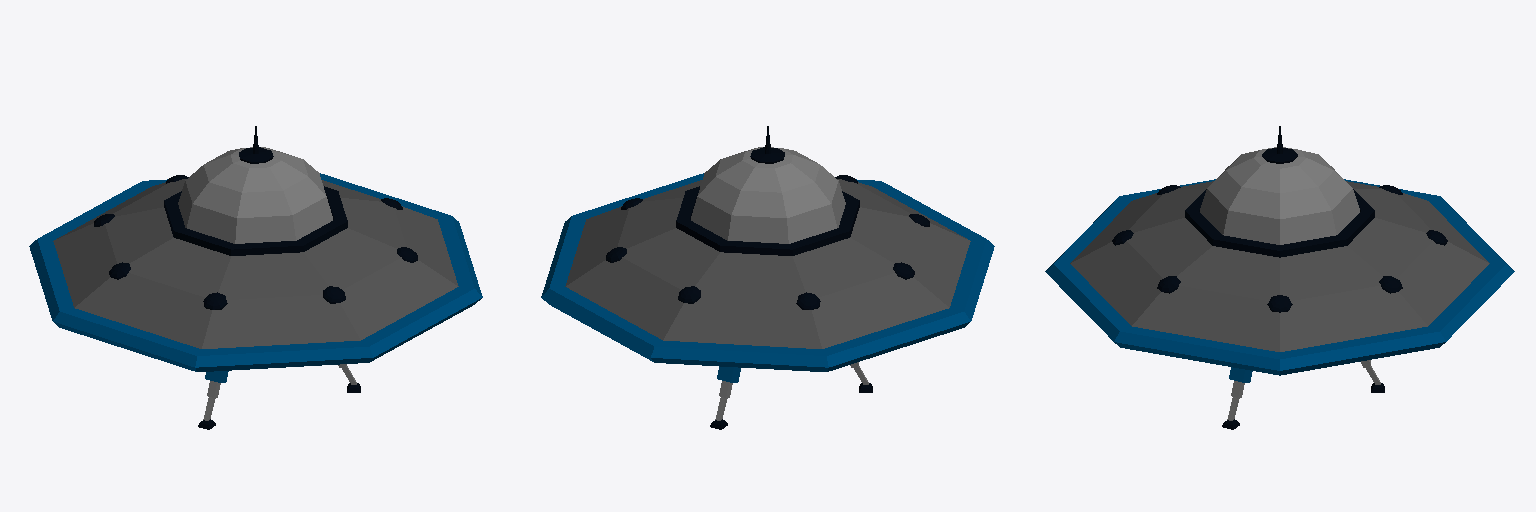
File: enemyA.obj
3 views of the same model, side by side, from view 1: azimuth 30°, elevation 25°; view 2: azimuth 150°, elevation 25°; view 3: azimuth 270°, elevation 25° (orthographic).
Visible parts, largest first — view 1: flying_sacuer; view 2: flying_sacuer; view 3: flying_sacuer.
Boxes of the visible parts, box(x1,y1,x2,y2) form: flying_sacuer: box(29, 126, 482, 429); flying_sacuer: box(541, 126, 994, 429); flying_sacuer: box(1045, 126, 1514, 429).
Bounding box in the file's own units: 2.24 × 1.41 × 2.24.